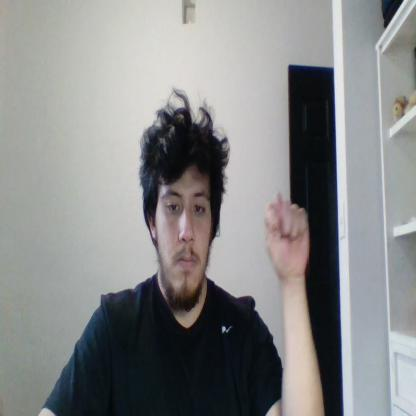T: (264, 192, 309, 277)
